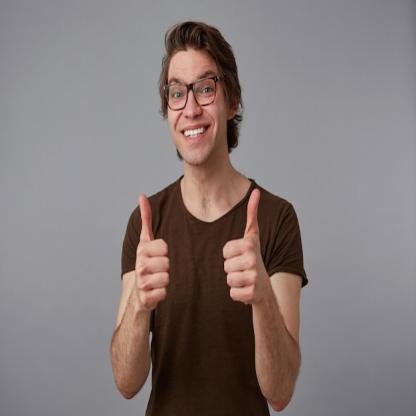thumb_up: (219, 186, 270, 306), (129, 190, 172, 314)
